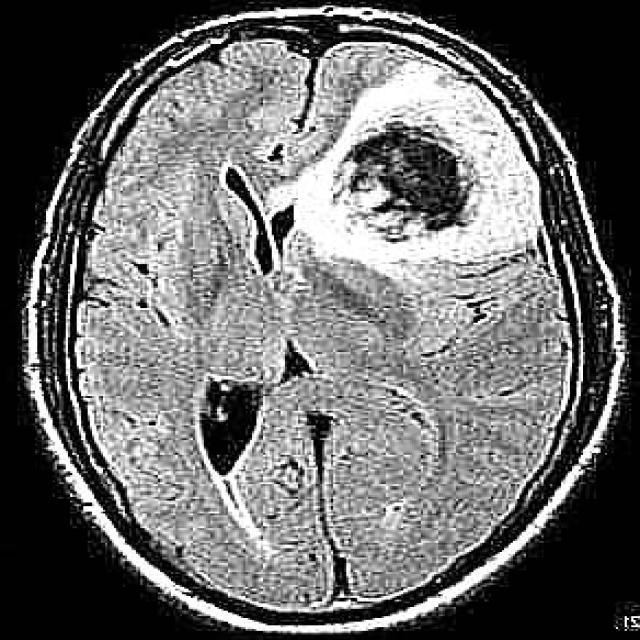brain tumor: (294, 66, 539, 266)
